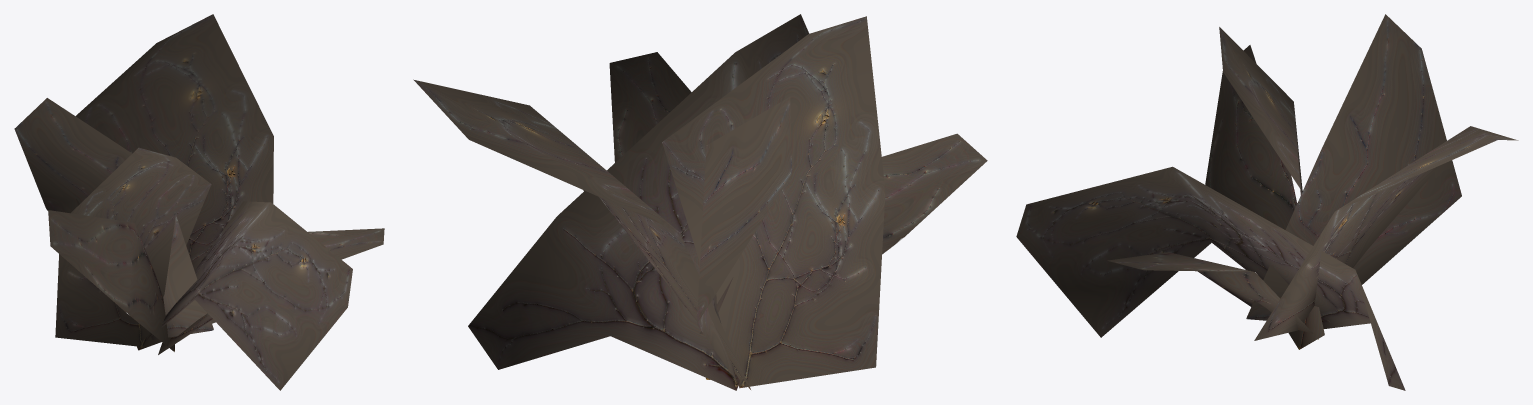
File: Bush_1.fbx
The picture shows the model from 3 angles, left to right: view 1: azimuth 30°, elevation 25°; view 2: azimuth 150°, elevation 25°; view 3: azimuth 270°, elevation 25°; orthographic projection. The views are drawn at different scales.
Parts seen in each view (by area): view 1: Bush_1; view 2: Bush_1; view 3: Bush_1.
Part boxes in pixels (bbox=[...]): Bush_1: bbox=[14, 14, 384, 390]; Bush_1: bbox=[413, 14, 987, 390]; Bush_1: bbox=[1016, 14, 1518, 390].
Size of the model in its own units: 1.31 by 1.04 by 1.66.
